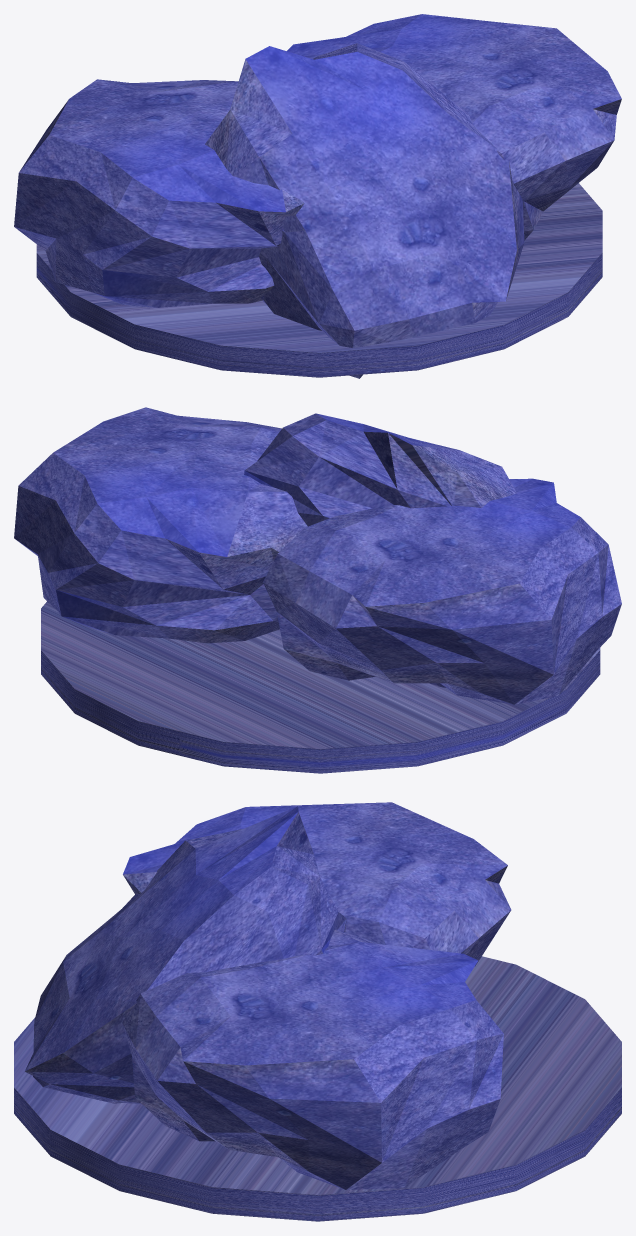
Rendered from blueStones.FBX.
3 renders of one model, top to bottom at view 1: azimuth 30°, elevation 25°; view 2: azimuth 150°, elevation 25°; view 3: azimuth 270°, elevation 25°, orthographic. The views are drawn at different scales.
Visible parts, largest first — view 1: Cylinder001; view 2: Cylinder001; view 3: Cylinder001.
Boxes of the visible parts, <box> form: Cylinder001: <box>14,14,621,378</box>; Cylinder001: <box>14,407,621,773</box>; Cylinder001: <box>14,802,621,1221</box>.
Size of the model in its own units: 55.12 by 49 by 25.32.
1 material, 1 textured.
